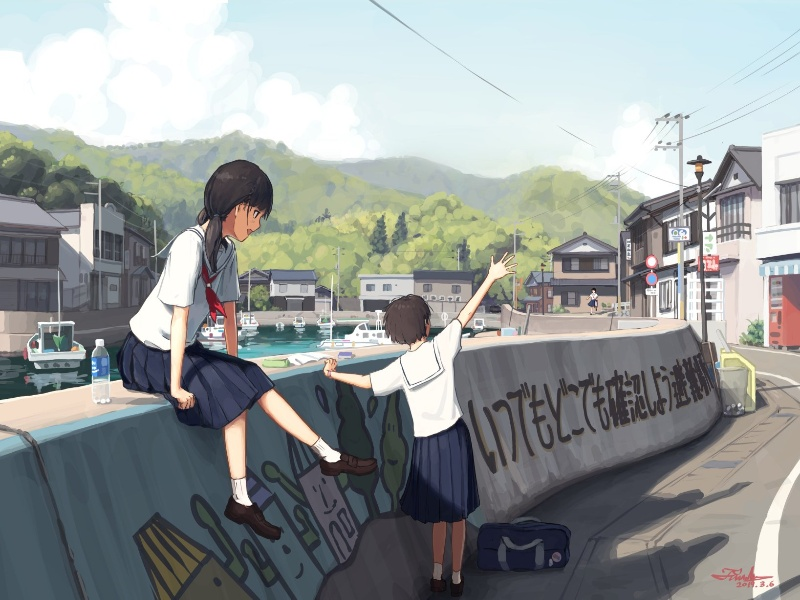boat: (24, 309, 89, 376), (238, 309, 264, 338), (314, 311, 340, 340), (290, 311, 311, 334)
dress: (116, 331, 285, 438), (390, 422, 492, 533)
person: (180, 155, 287, 259), (367, 289, 466, 366), (582, 285, 602, 318)
